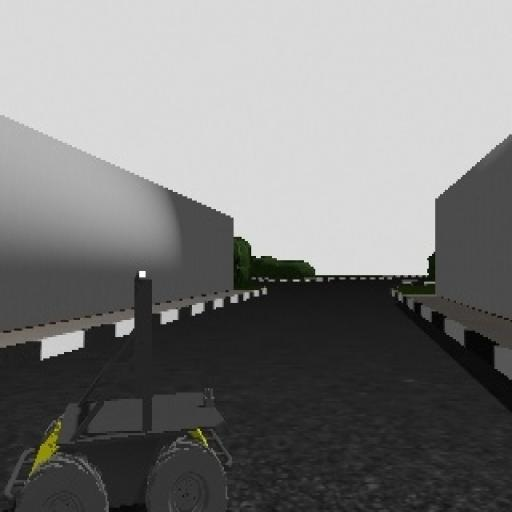huskya200: (6, 258, 242, 512)
